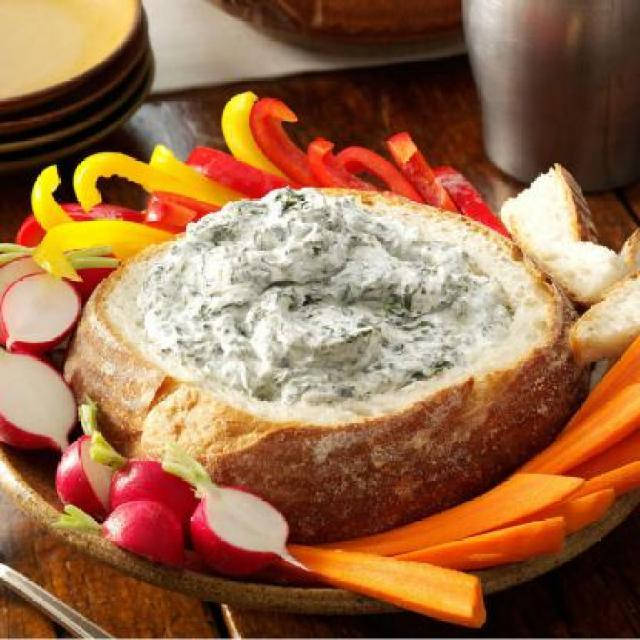Spread: (141, 189, 514, 394)
